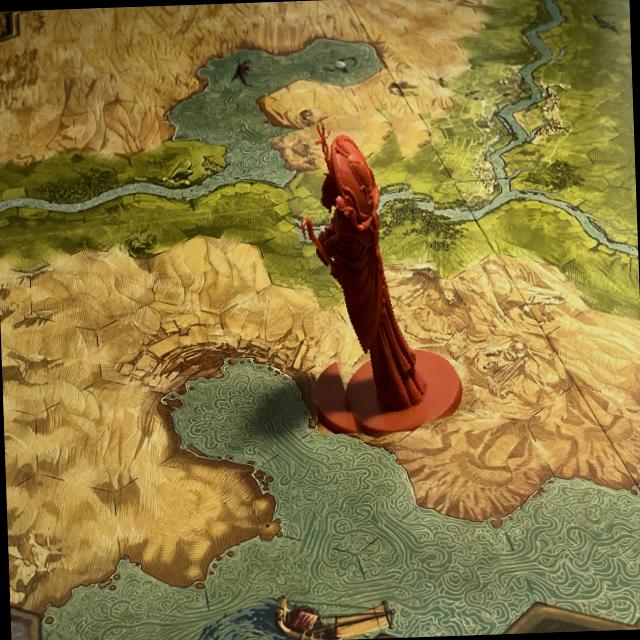amon: (287, 106, 461, 440)
